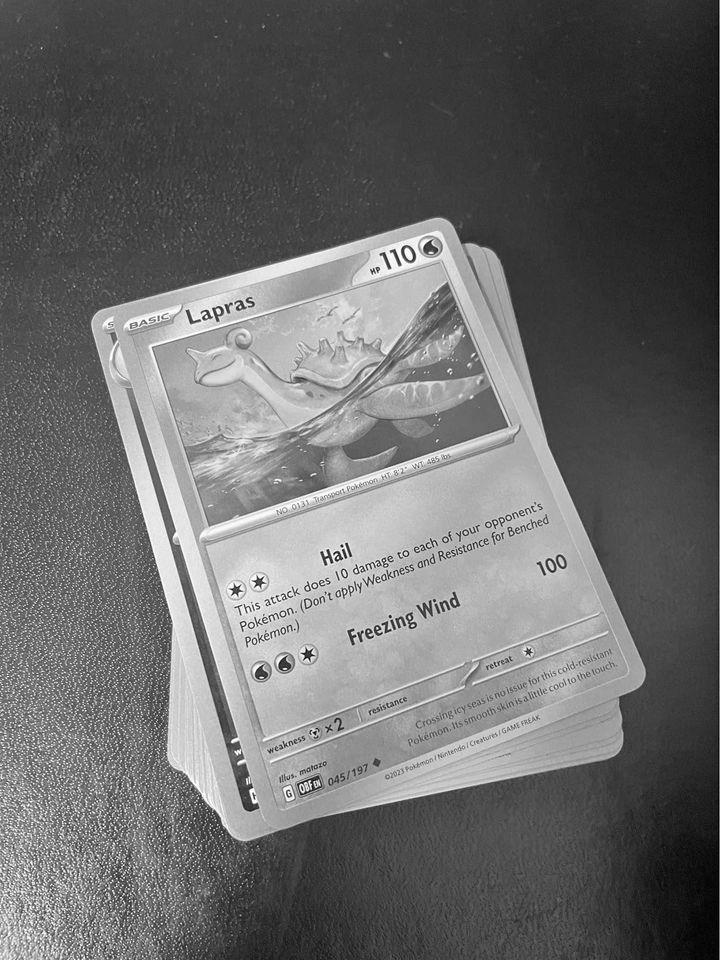card: (111, 218, 648, 828)
